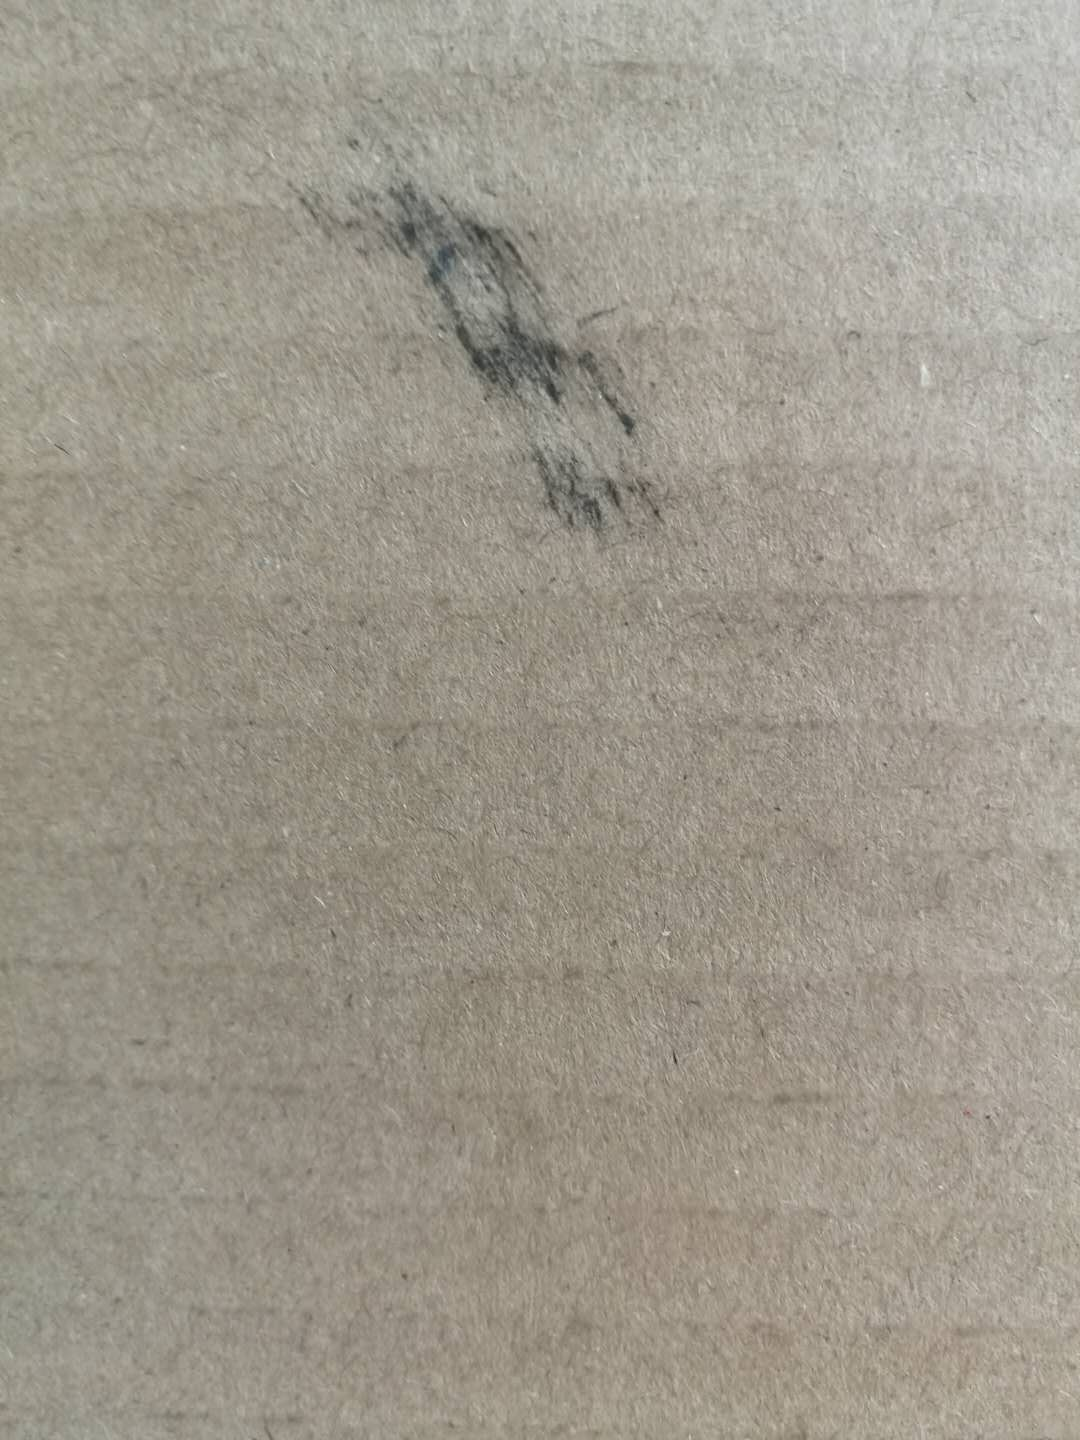defect: (252, 79, 723, 579)
